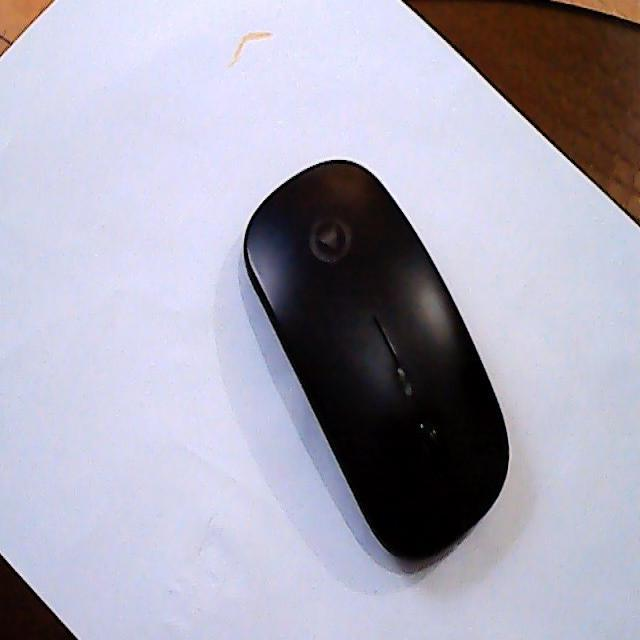mouse: (237, 153, 499, 595)
